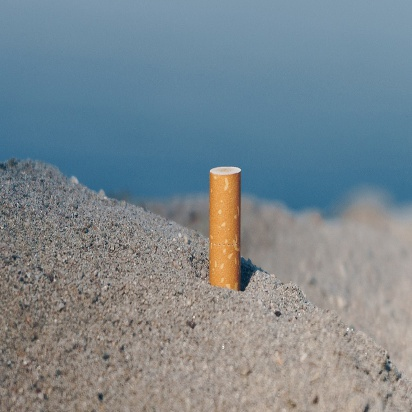cigarette: (202, 161, 252, 298)
